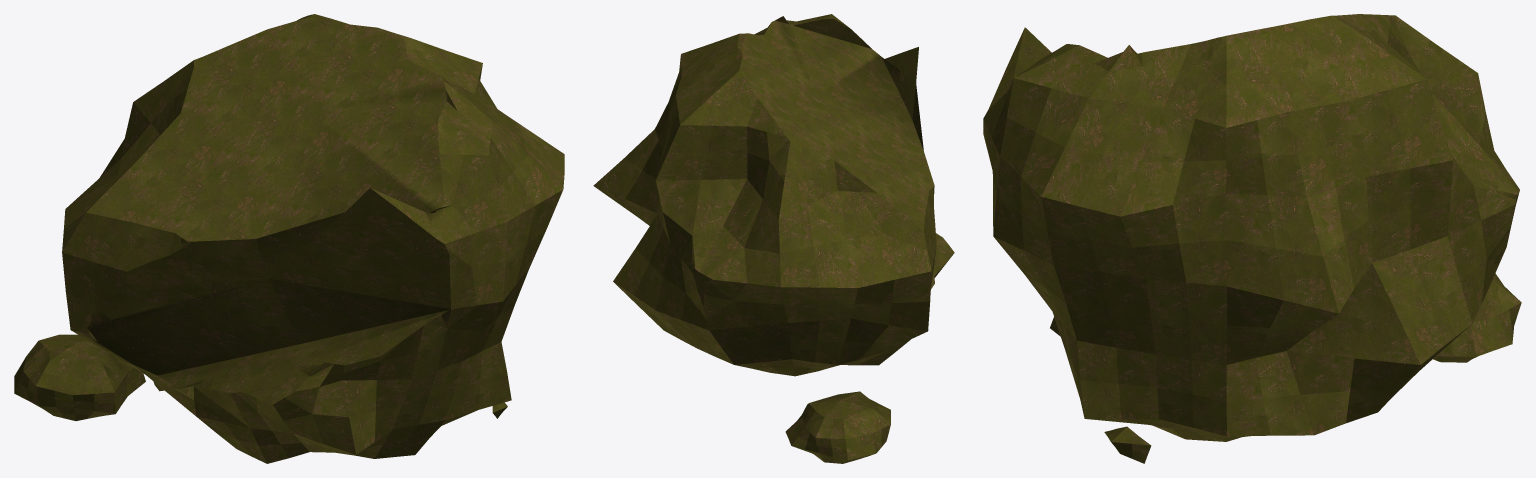
Rendered from cliff_2.glb.
The picture shows the model from 3 angles, left to right: view 1: azimuth 30°, elevation 25°; view 2: azimuth 150°, elevation 25°; view 3: azimuth 270°, elevation 25°; orthographic projection. The views are drawn at different scales.
Visible parts, largest first — view 1: cliff; view 2: cliff; view 3: cliff.
Boxes of the visible parts, x1=… form: cliff: x1=14, y1=14, x2=564, y2=463; cliff: x1=593, y1=14, x2=954, y2=463; cliff: x1=983, y1=14, x2=1521, y2=463.
Bounding box in the file's own units: 7.93 × 7.05 × 7.92.
1 material, 1 textured.
